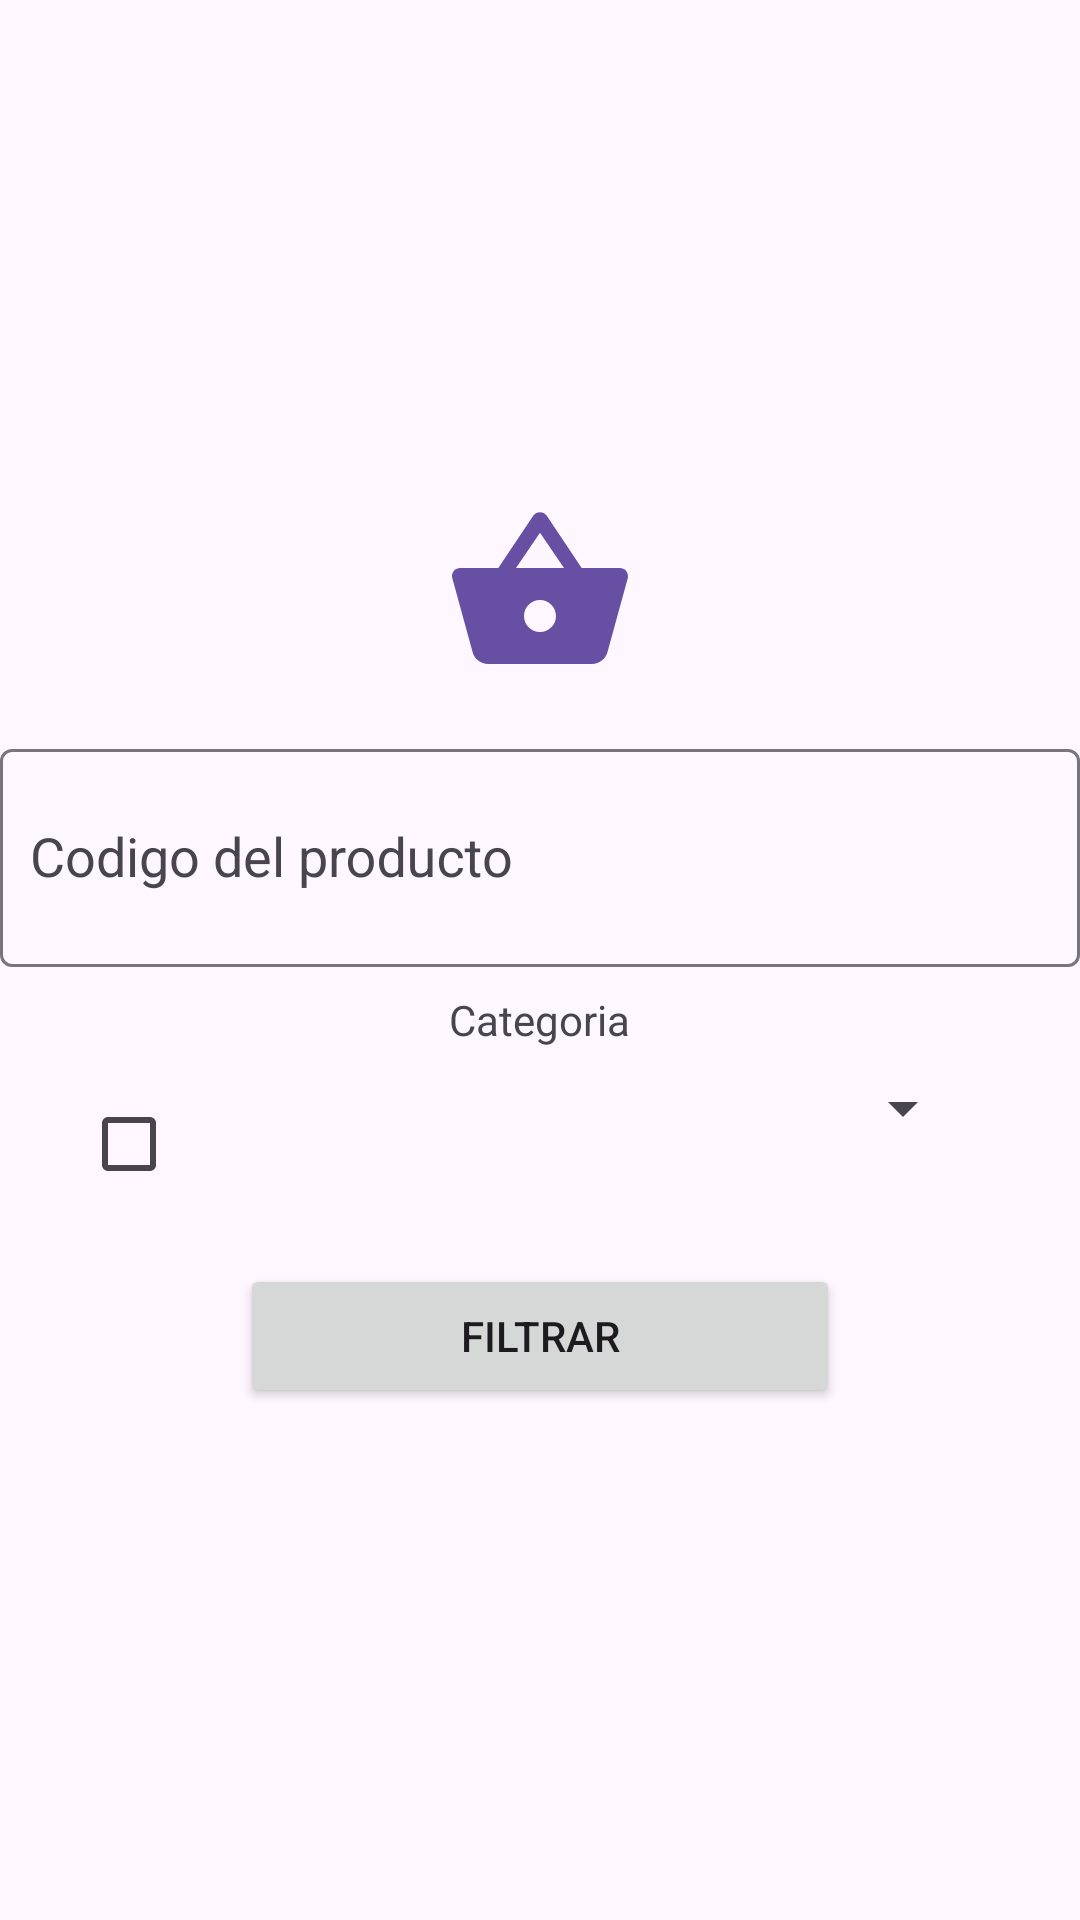

Icon bounding boxes for this 1080×1920 phone screenshot, format BBox(x1, y1, x2, y2):
shopping basket: BBox(452, 512, 628, 664)
